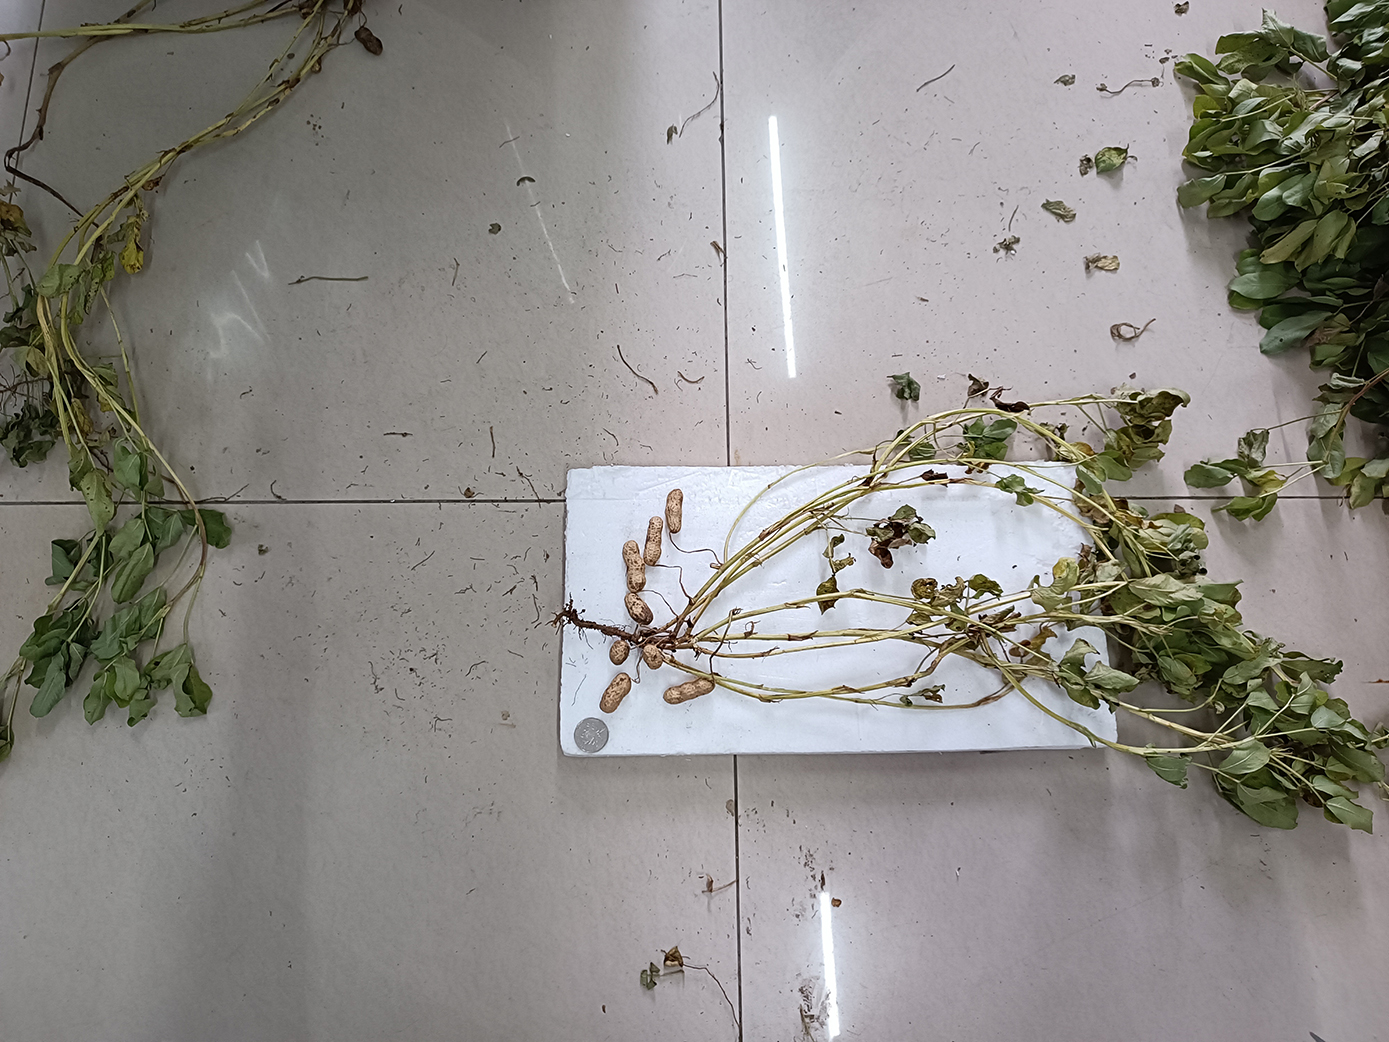h: (663, 678, 716, 704), (598, 672, 632, 713), (623, 541, 646, 593), (644, 516, 664, 566), (624, 594, 653, 624), (665, 488, 684, 534), (643, 645, 665, 671), (609, 640, 630, 665)
